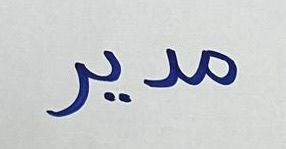dal: (139, 41, 185, 93)
meem: (188, 40, 239, 94)
reh: (38, 50, 91, 120)
yeh: (92, 44, 137, 107)
